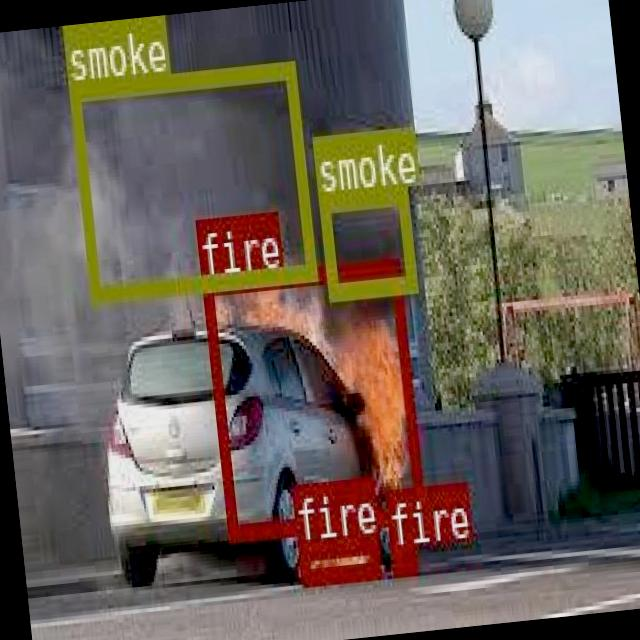fire: (198, 255, 424, 538), (296, 532, 378, 583), (388, 546, 416, 572)
smoke: (67, 59, 316, 301), (317, 184, 414, 297)
